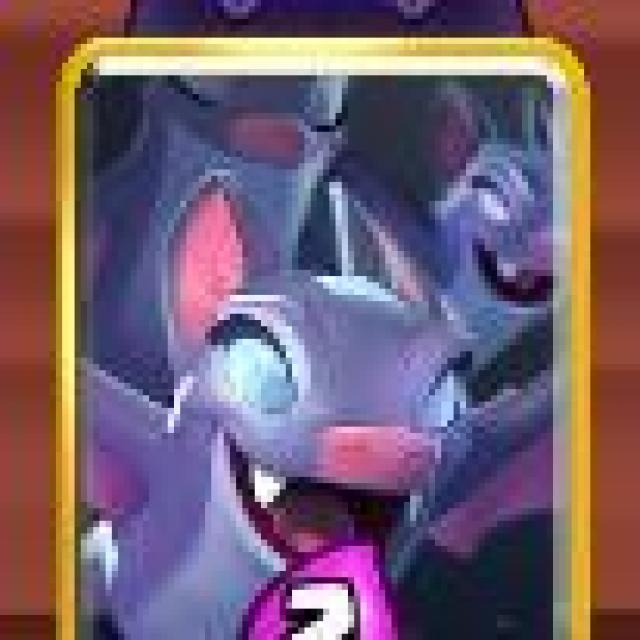Bats: (51, 34, 591, 640)
